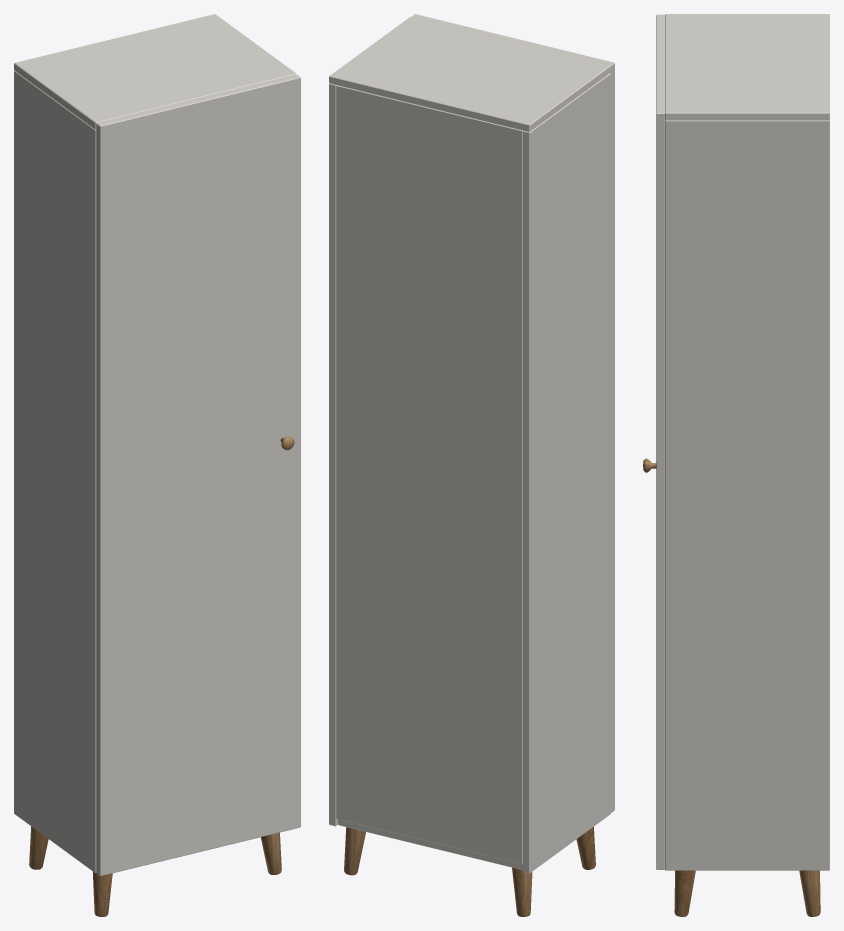
File: armario_nordico_columna_50.glb
The picture shows the model from 3 angles, left to right: view 1: azimuth 30°, elevation 25°; view 2: azimuth 150°, elevation 25°; view 3: azimuth 270°, elevation 25°; orthographic projection.
Parts seen in each view (by area): view 1: armario_nordico_columna_50; view 2: armario_nordico_columna_50; view 3: armario_nordico_columna_50.
Boxes of the visible parts, <box> form: armario_nordico_columna_50: <box>14,14,300,916</box>; armario_nordico_columna_50: <box>329,14,614,916</box>; armario_nordico_columna_50: <box>643,14,829,916</box>.
Size of the model in its own units: 0.5 by 1.9 by 0.398.
Materials: 2 (1 with a texture image).
